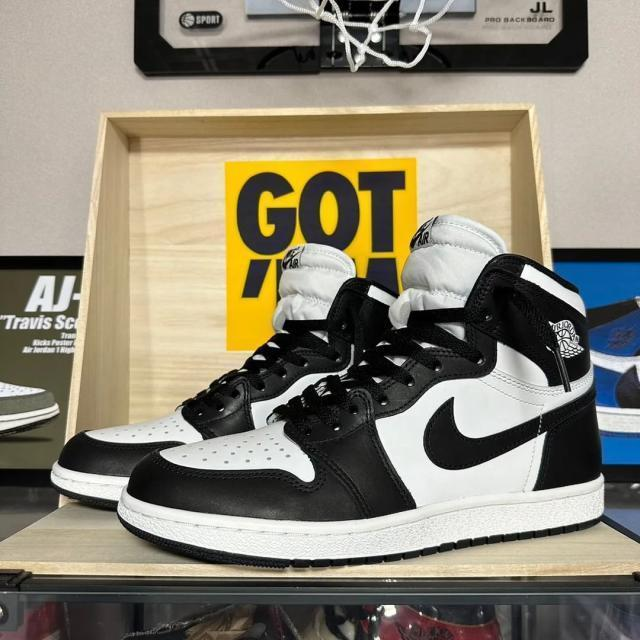nike original jordan 1: (118, 258, 633, 568), (50, 256, 419, 511)
